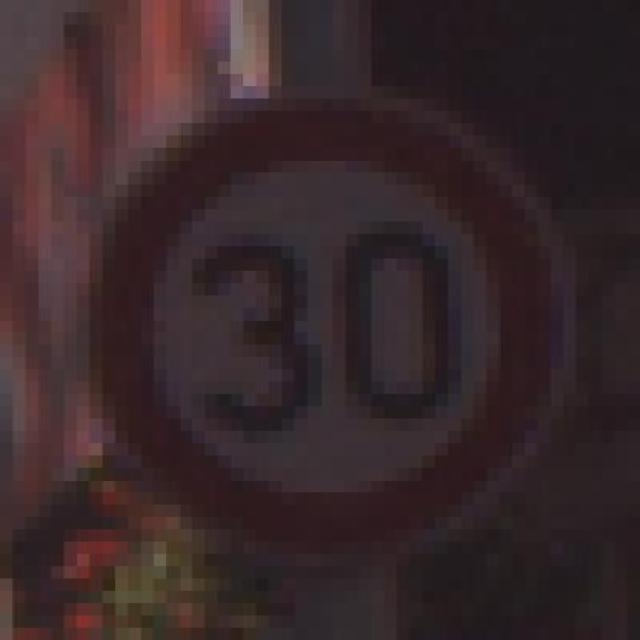Speed Limit 30 KMPh: (51, 86, 614, 579)
